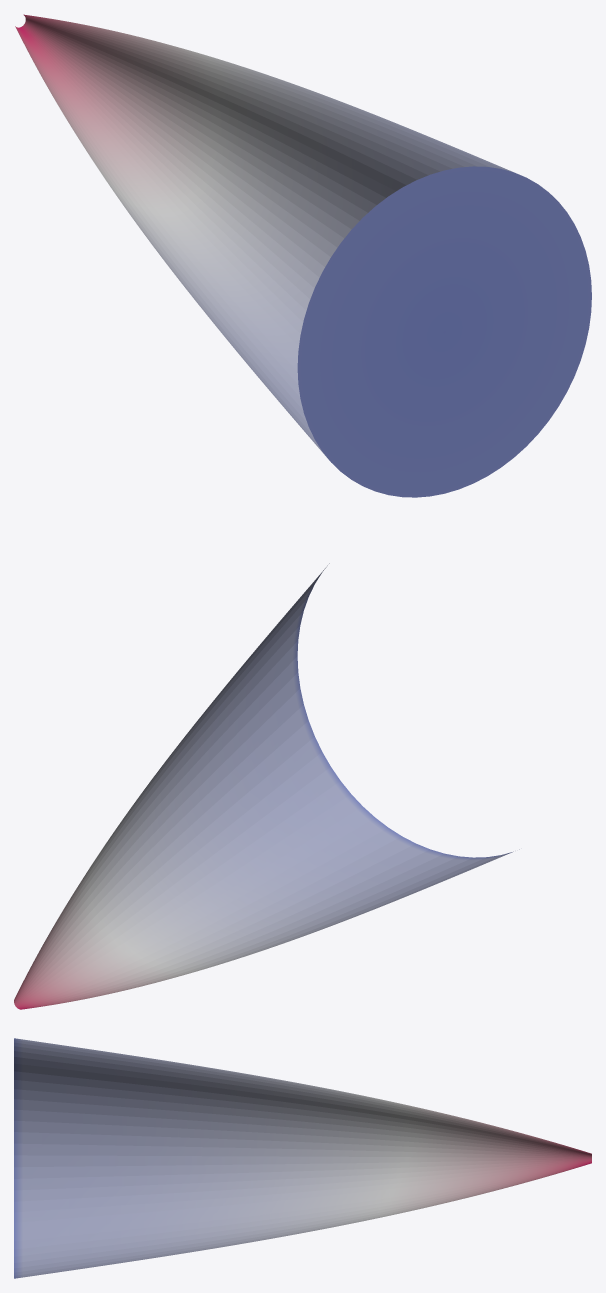
File: frame_017.glb
3 renders of one model, top to bottom at view 1: azimuth 30°, elevation 25°; view 2: azimuth 150°, elevation 25°; view 3: azimuth 270°, elevation 25°, orthographic. The views are drawn at different scales.
Parts seen in each view (by area): view 1: world; view 2: world; view 3: world.
Boxes of the visible parts, x1=… form: world: x1=15, y1=14, x2=591, y2=497; world: x1=14, y1=563, x2=519, y2=1009; world: x1=14, y1=1038, x2=591, y2=1278.
Bounding box in the file's own units: 0.4 × 0.4199 × 1.
